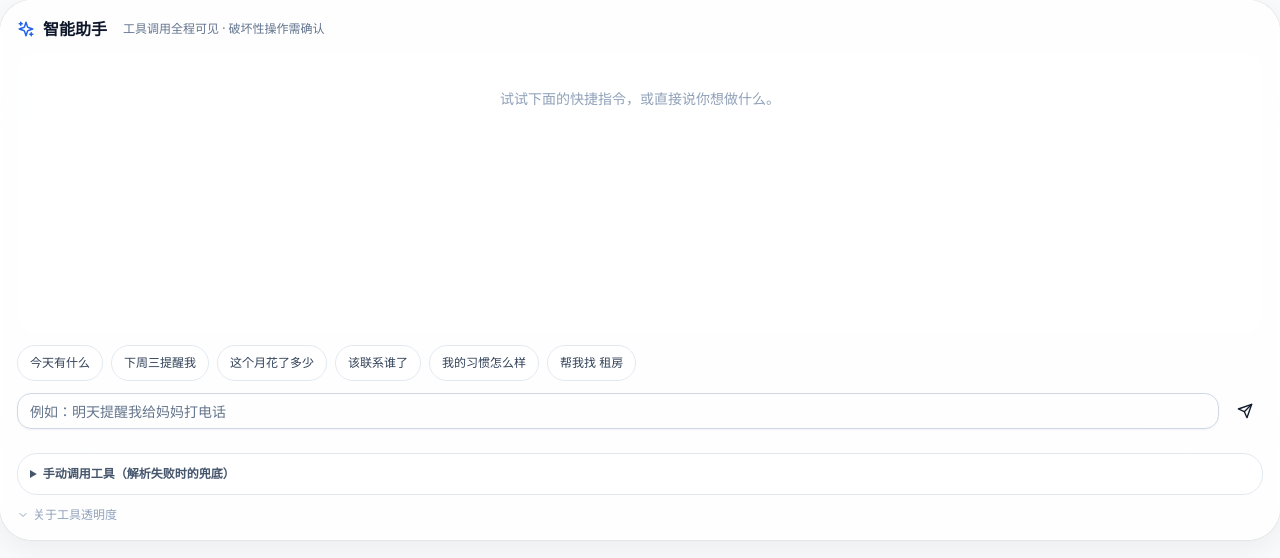
AssistantPanel (checkbox 109) › asks a clarifying question (never a raw error) when the utterance is not executable
The width and height of the screenshot is (1280, 558).
Type "随便说点什么" into the field with test id "assistant-input" at (618, 411), box [17,393,1219,429]
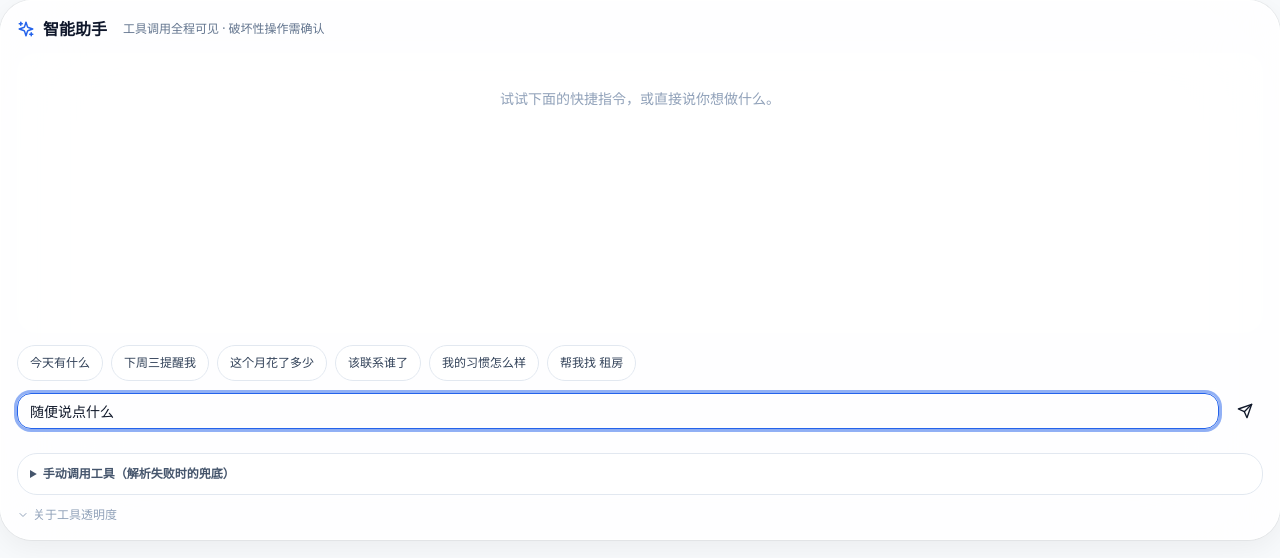
Click the button with test id "assistant-submit" at (1245, 411), box [1227,393,1263,429]
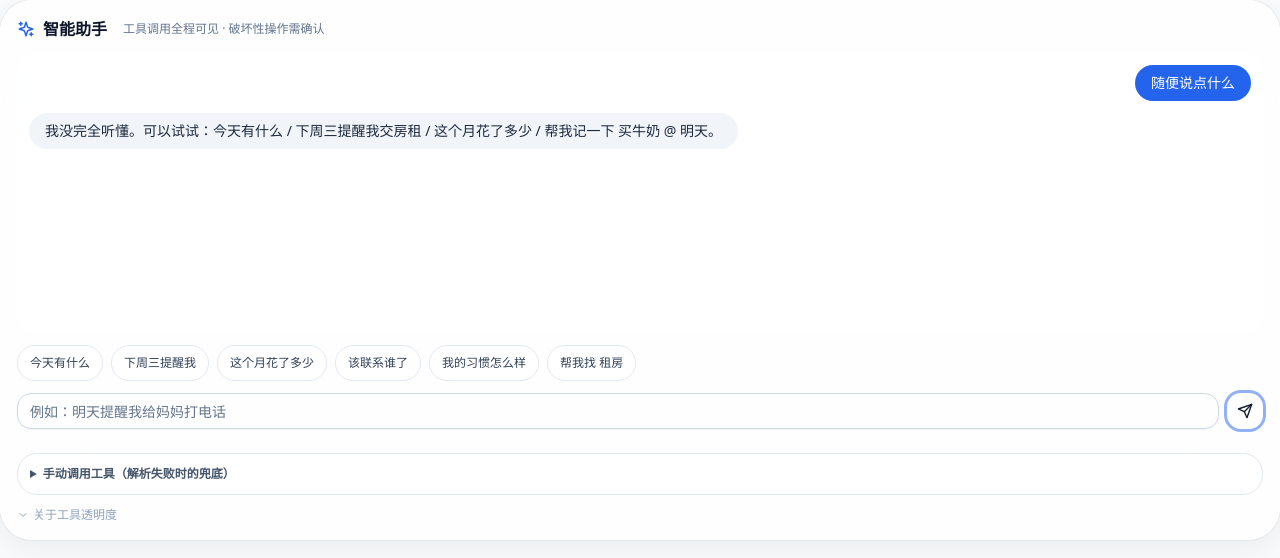
Expected: the text "我没完全听懂。可以试试：今天有什么 / 下周三提醒我交房租 / 这个月花了多少 / 帮我记一下 买牛奶 @ 明天。" is shown, [29,113,738,149]
